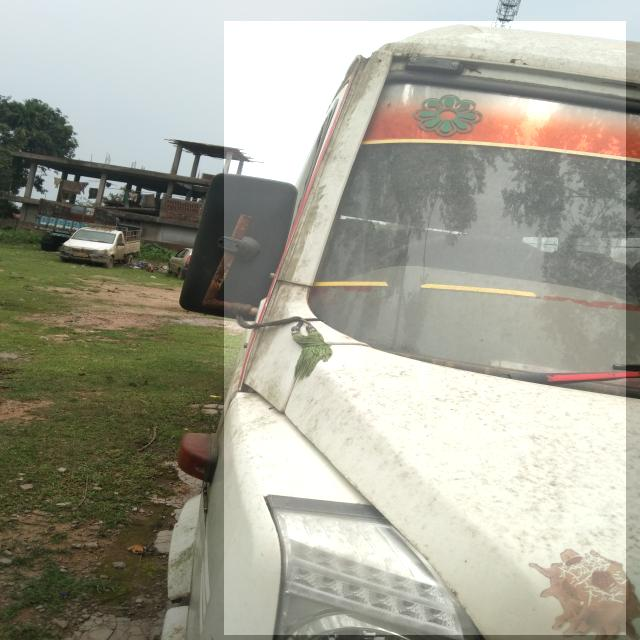Travller: (224, 21, 626, 635)
